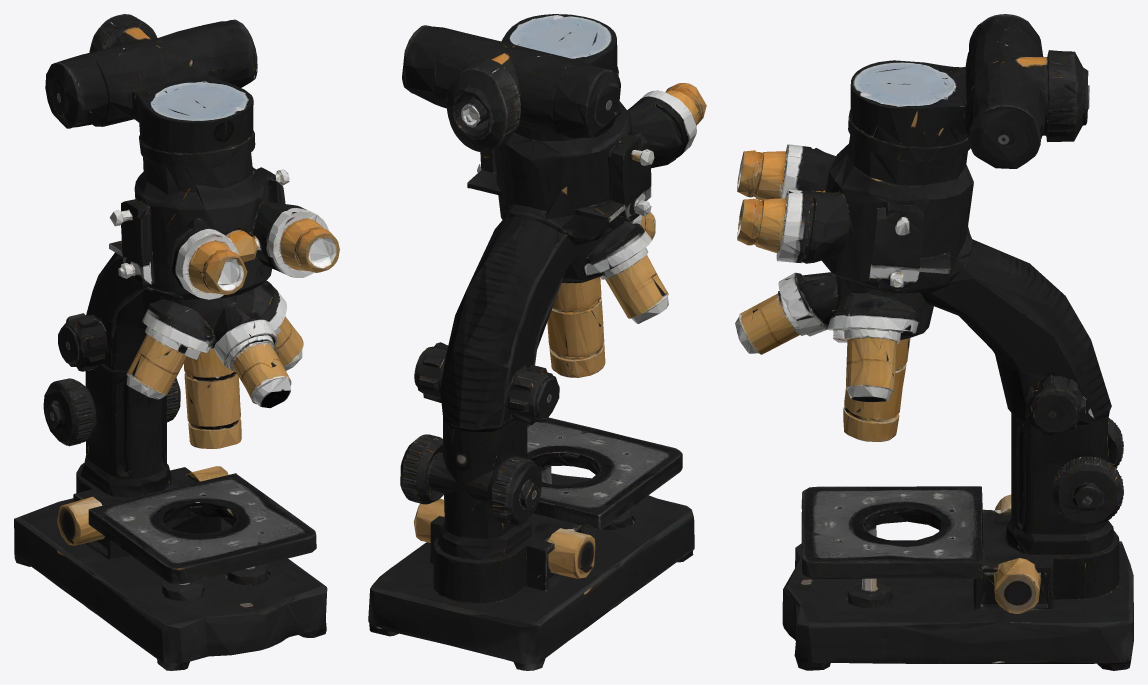
3 views of the same model, side by side, from view 1: azimuth 30°, elevation 25°; view 2: azimuth 150°, elevation 25°; view 3: azimuth 270°, elevation 25° (orthographic). The views are drawn at different scales.
Size of the model in its own units: 0.6849 by 1.9 by 1.19.
1 material, 1 textured.
